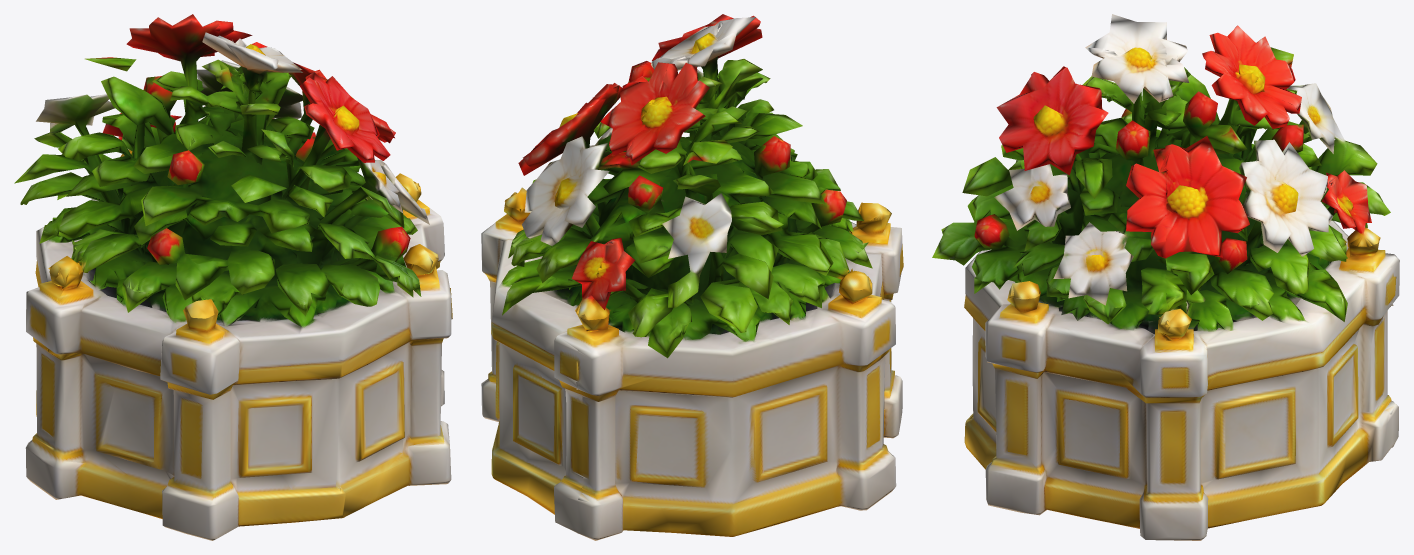
Rendered from HaloFlowerPotHQ_Daisy_HD_src.glb.
3 renders of one model, left to right at view 1: azimuth 30°, elevation 25°; view 2: azimuth 150°, elevation 25°; view 3: azimuth 270°, elevation 25°, orthographic. The views are drawn at different scales.
Parts seen in each view (by area): view 1: tripo_node_c68896fd-ea5f-4d70-8463-564a44329629; view 2: tripo_node_c68896fd-ea5f-4d70-8463-564a44329629; view 3: tripo_node_c68896fd-ea5f-4d70-8463-564a44329629.
Boxes of the visible parts, x1=… form: tripo_node_c68896fd-ea5f-4d70-8463-564a44329629: x1=14, y1=14, x2=452, y2=540; tripo_node_c68896fd-ea5f-4d70-8463-564a44329629: x1=481, y1=14, x2=903, y2=540; tripo_node_c68896fd-ea5f-4d70-8463-564a44329629: x1=932, y1=14, x2=1399, y2=540.
Size of the model in its own units: 0.9334 by 0.9709 by 0.9845.
1 material, 1 textured.
